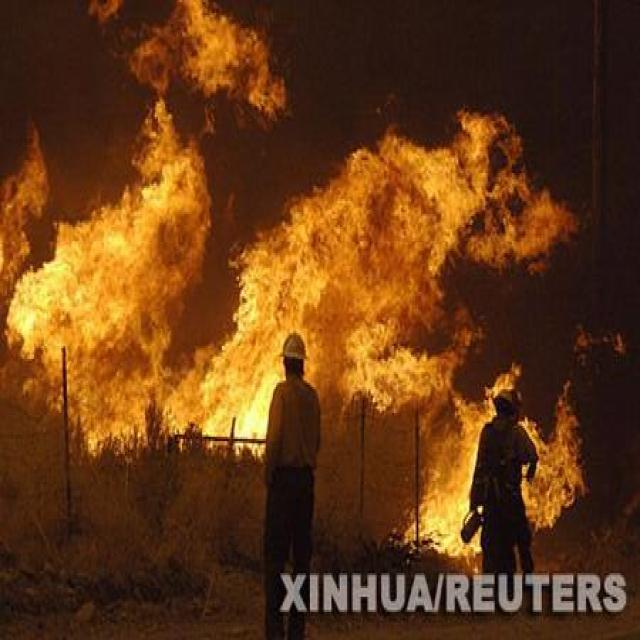fire: (5, 3, 582, 563)
